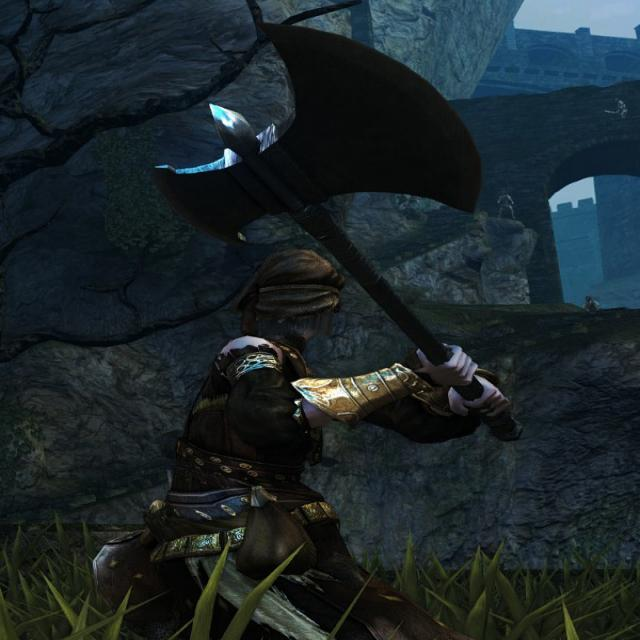axe: (153, 18, 529, 434)
